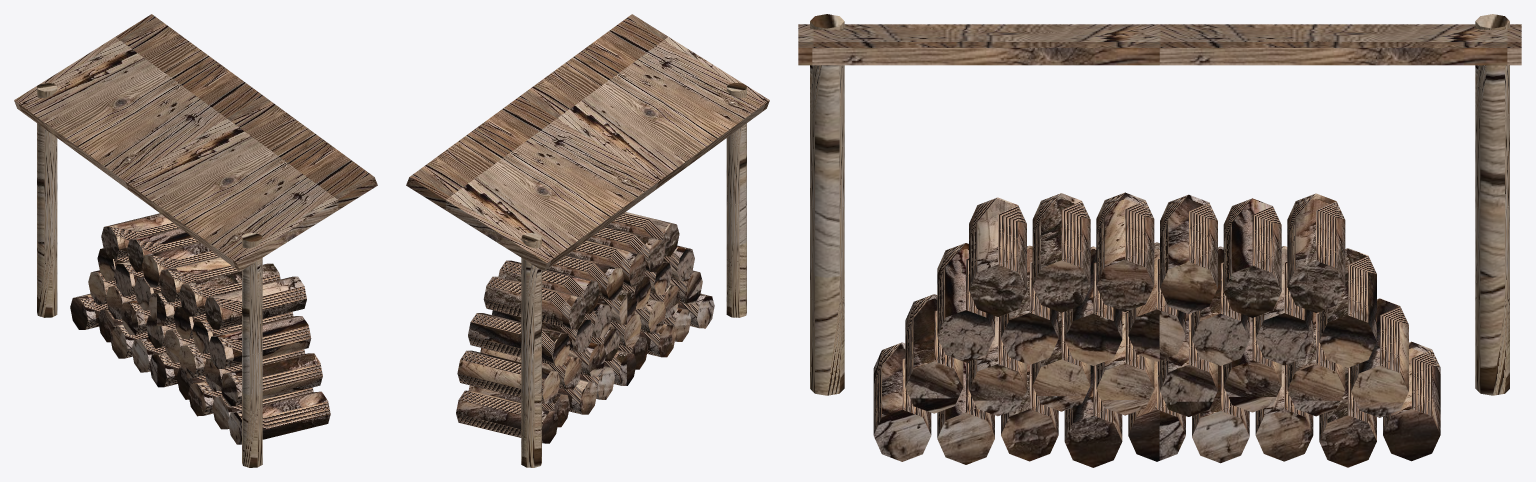
File: lenera.glb
The picture shows the model from 3 angles, left to right: view 1: azimuth 30°, elevation 25°; view 2: azimuth 150°, elevation 25°; view 3: azimuth 270°, elevation 25°; orthographic projection. The views are drawn at different scales.
Visible parts, largest first — view 1: pieza; view 2: pieza; view 3: pieza.
Part boxes in pixels (x1,y1,x2,y2): pieza: (14, 14, 377, 467); pieza: (406, 14, 769, 467); pieza: (798, 14, 1521, 467).
Bounding box in the file's own units: 0.9134 × 1.64 × 2.5.
Materials: 3 (3 with a texture image).
